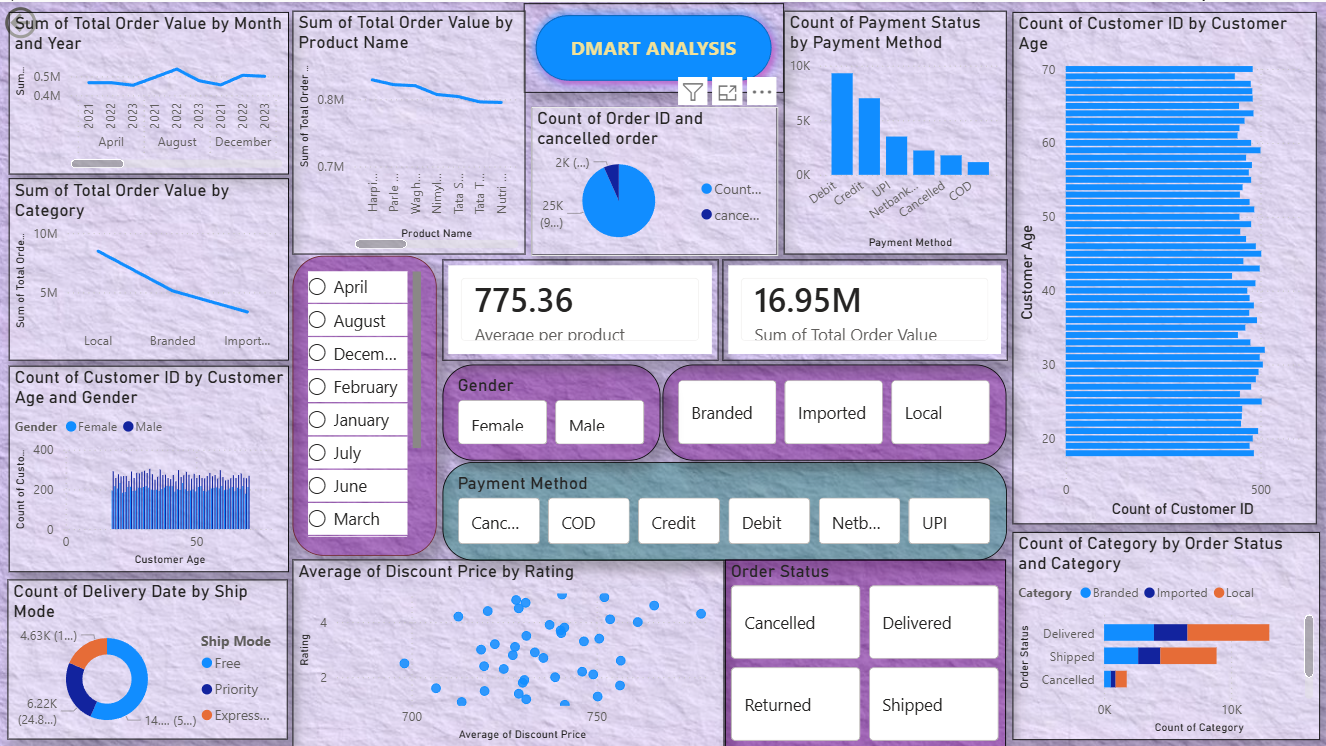

The dashboard page shown, as its layout file describes it:
{"tool":"powerbi","page":{"name":"Page 1","canvas":[1280,720],"ordinal":0},"visuals":[{"type":"shape","box":[505.6,1.1,251.1,86.7],"z":0},{"type":"actionButton","box":[0,0,100,40],"z":1000},{"type":"lineChart","fields":{"Category":["Dmart+Dataset_Tableau (1).Month","Dmart+Dataset_Tableau (1).Year"],"Y":["Sum(Dmart+Dataset_Tableau (1).Total Order Value)"]},"box":[8,9.1,270.5,156.8],"z":2000},{"type":"lineChart","fields":{"Category":["Dmart+Dataset_Tableau (1).Category"],"Y":["Sum(Dmart+Dataset_Tableau (1).Total Order Value)"]},"box":[8.2,170,270.6,175.9],"z":3000},{"type":"clusteredColumnChart","fields":{"Category":["Dmart+Dataset_Tableau (1).Customer Age"],"Series":["Dmart+Dataset_Tableau (1).Gender"],"Y":["CountNonNull(Dmart+Dataset_Tableau (1).Customer ID)"]},"box":[8.2,351.2,270.6,198.8],"z":4000},{"type":"barChart","fields":{"Category":["Dmart+Dataset_Tableau (1).Customer Age"],"Y":["CountNonNull(Dmart+Dataset_Tableau (1).Customer ID)"]},"box":[977.8,10,293.3,494.4],"z":5000},{"type":"lineChart","fields":{"Category":["Dmart+Dataset_Tableau (1).Product Name"],"Y":["Sum(Dmart+Dataset_Tableau (1).Total Order Value)"]},"box":[282.2,8.9,224.4,235.6],"z":6000},{"type":"scatterChart","fields":{"X":["Dmart+Dataset_Tableau (1).Discount Price"],"Y":["Dmart+Dataset_Tableau (1).Rating"]},"box":[282.9,538.6,417.1,181.4],"z":7000},{"type":"donutChart","fields":{"Category":["Dmart+Dataset_Tableau (1).Ship Mode"],"Y":["CountNonNull(Dmart+Dataset_Tableau (1).Delivery Date)"]},"box":[7.7,557.7,270.8,154.6],"z":8000},{"type":"pieChart","fields":{"Y":["CountNonNull(Dmart+Dataset_Tableau (1).Order ID)","Dmart+Dataset_Tableau (1).cancelled order"]},"box":[512.2,101.1,237.8,143.3],"z":9000},{"type":"columnChart","fields":{"Y":["CountNonNull(Dmart+Dataset_Tableau (1).Payment Status)"],"Category":["Dmart+Dataset_Tableau (1).Payment Method"]},"box":[756.7,8.9,215.6,235.6],"z":10000},{"type":"barChart","fields":{"Category":["Dmart+Dataset_Tableau (1).Order Status"],"Series":["Dmart+Dataset_Tableau (1).Category"],"Y":["CountNonNull(Dmart+Dataset_Tableau (1).Category)"]},"box":[977.8,511.1,296.7,201.1],"z":11000},{"type":"listSlicer","fields":{"Values":["Dmart+Dataset_Tableau (1).Month"]},"box":[282.2,245,139.4,289.4],"z":12000},{"type":"advancedSlicerVisual","fields":{"Values":["Dmart+Dataset_Tableau (1).Payment Method"]},"box":[426.9,443.6,544.9,94.9],"z":13000},{"type":"advancedSlicerVisual","fields":{"Values":["Dmart+Dataset_Tableau (1).Category"]},"box":[640,350,332,92.5],"z":14000},{"type":"advancedSlicerVisual","fields":{"Values":["Dmart+Dataset_Tableau (1).Gender"]},"box":[426.5,350,210,93],"z":15000},{"type":"advancedSlicerVisual","fields":{"Values":["Dmart+Dataset_Tableau (1).Order Status"]},"box":[700,538.6,271.4,181.4],"z":16000},{"type":"cardVisual","fields":{"Data":["Dmart+Dataset_Tableau (1).Average per product"]},"box":[426.7,248.3,266.7,97.5],"z":17000},{"type":"cardVisual","fields":{"Data":["Sum(Dmart+Dataset_Tableau (1).Total Order Value)"]},"box":[697.2,248.3,275,97.8],"z":18000}]}

Visuals, with their boxes in screenshot pixels (x1, y1, x2, y2), scaled from the page's 1280x720 canvas onto the 1326x746 screenshot:
shape: Rect(524, 1, 784, 91)
actionButton: Rect(0, 0, 104, 41)
lineChart - Dmart+Dataset_Tableau (1).Month x Dmart+Dataset_Tableau (1).Year: Rect(8, 9, 289, 172)
lineChart - Dmart+Dataset_Tableau (1).Category x Sum(Dmart+Dataset_Tableau (1).Total Order Value): Rect(8, 176, 289, 358)
clusteredColumnChart - Dmart+Dataset_Tableau (1).Customer Age x Dmart+Dataset_Tableau (1).Gender: Rect(8, 364, 289, 570)
barChart - Dmart+Dataset_Tableau (1).Customer Age x CountNonNull(Dmart+Dataset_Tableau (1).Customer ID): Rect(1013, 10, 1317, 523)
lineChart - Dmart+Dataset_Tableau (1).Product Name x Sum(Dmart+Dataset_Tableau (1).Total Order Value): Rect(292, 9, 525, 253)
scatterChart - Dmart+Dataset_Tableau (1).Discount Price x Dmart+Dataset_Tableau (1).Rating: Rect(293, 558, 725, 745)
donutChart - Dmart+Dataset_Tableau (1).Ship Mode x CountNonNull(Dmart+Dataset_Tableau (1).Delivery Date): Rect(8, 578, 289, 738)
pieChart - CountNonNull(Dmart+Dataset_Tableau (1).Order ID) x Dmart+Dataset_Tableau (1).cancelled order: Rect(531, 105, 777, 253)
columnChart - CountNonNull(Dmart+Dataset_Tableau (1).Payment Status) x Dmart+Dataset_Tableau (1).Payment Method: Rect(784, 9, 1007, 253)
barChart - Dmart+Dataset_Tableau (1).Order Status x Dmart+Dataset_Tableau (1).Category: Rect(1013, 530, 1320, 738)
listSlicer - Dmart+Dataset_Tableau (1).Month: Rect(292, 254, 437, 554)
advancedSlicerVisual - Dmart+Dataset_Tableau (1).Payment Method: Rect(442, 460, 1007, 558)
advancedSlicerVisual - Dmart+Dataset_Tableau (1).Category: Rect(663, 363, 1007, 458)
advancedSlicerVisual - Dmart+Dataset_Tableau (1).Gender: Rect(442, 363, 659, 459)
advancedSlicerVisual - Dmart+Dataset_Tableau (1).Order Status: Rect(725, 558, 1006, 745)
cardVisual - Dmart+Dataset_Tableau (1).Average per product: Rect(442, 257, 718, 358)
cardVisual - Sum(Dmart+Dataset_Tableau (1).Total Order Value): Rect(722, 257, 1007, 359)
